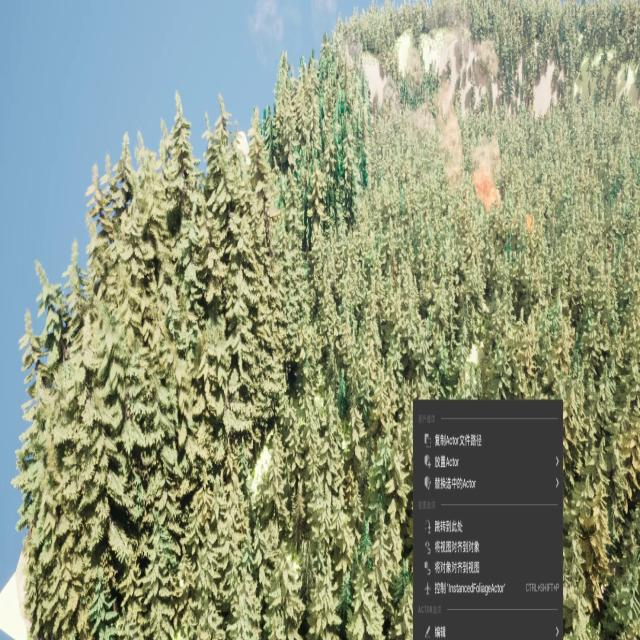smoke: (428, 102, 503, 214)
